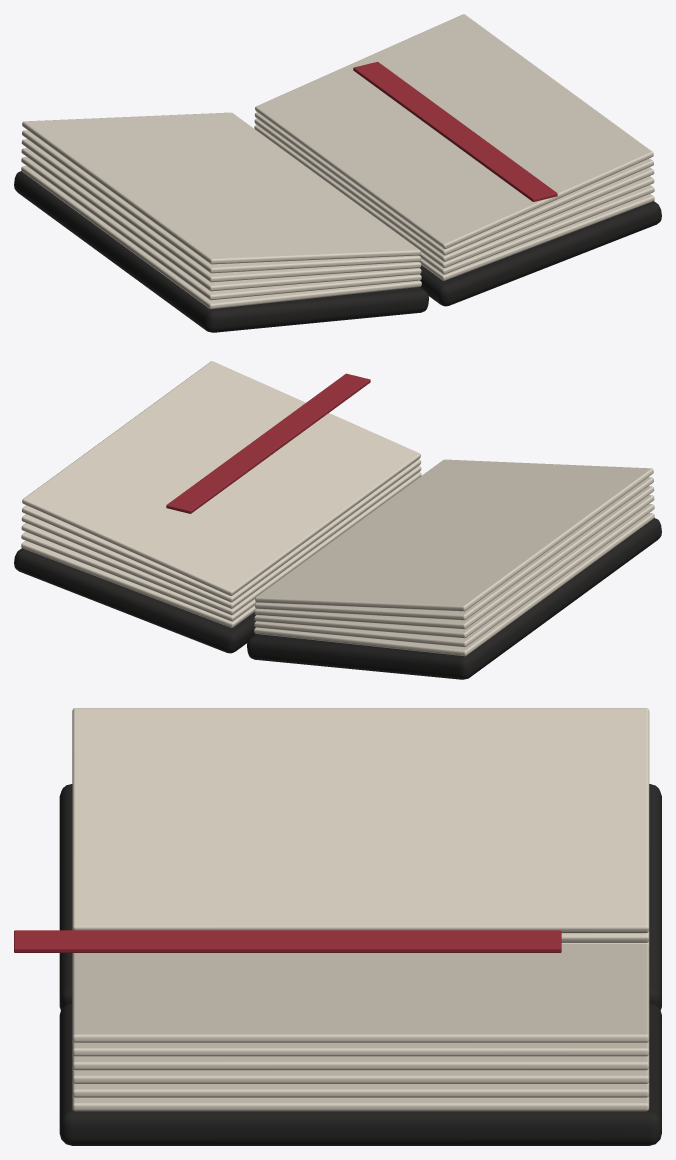
Rendered from VSV-013.glb.
3 renders of one model, top to bottom at view 1: azimuth 30°, elevation 25°; view 2: azimuth 150°, elevation 25°; view 3: azimuth 270°, elevation 25°, orthographic. The views are drawn at different scales.
Visible parts, largest first — view 1: VSV-013_knowledge-folio__page.011, VSV-013_knowledge-folio__page.005, VSV-013_knowledge-folio__cover, VSV-013_knowledge-folio__cover.001, VSV-013_knowledge-folio__bookmark, VSV-013_knowledge-folio__page.001, VSV-013_knowledge-folio__page.002, VSV-013_knowledge-folio__page.003, VSV-013_knowledge-folio__page, VSV-013_knowledge-folio__page.004, VSV-013_knowledge-folio__page.009, VSV-013_knowledge-folio__page.010 (+3 smaller); view 2: VSV-013_knowledge-folio__page.011, VSV-013_knowledge-folio__page.005, VSV-013_knowledge-folio__cover, VSV-013_knowledge-folio__cover.001, VSV-013_knowledge-folio__bookmark, VSV-013_knowledge-folio__page.001, VSV-013_knowledge-folio__page.002, VSV-013_knowledge-folio__page.003, VSV-013_knowledge-folio__page, VSV-013_knowledge-folio__page.004, VSV-013_knowledge-folio__page.009, VSV-013_knowledge-folio__page.010 (+3 smaller); view 3: VSV-013_knowledge-folio__page.005, VSV-013_knowledge-folio__page.011, VSV-013_knowledge-folio__cover.001, VSV-013_knowledge-folio__bookmark, VSV-013_knowledge-folio__page.010, VSV-013_knowledge-folio__page.006, VSV-013_knowledge-folio__page.009, VSV-013_knowledge-folio__page.007, VSV-013_knowledge-folio__page.008, VSV-013_knowledge-folio__cover, VSV-013_knowledge-folio__page.004.
Boxes of the visible parts, <box> form: VSV-013_knowledge-folio__page.011: <box>255,14,653,248</box>; VSV-013_knowledge-folio__page.005: <box>22,112,420,264</box>; VSV-013_knowledge-folio__cover: <box>14,171,428,332</box>; VSV-013_knowledge-folio__cover.001: <box>420,201,661,306</box>; VSV-013_knowledge-folio__bookmark: <box>353,61,557,201</box>; VSV-013_knowledge-folio__page.001: <box>21,157,421,300</box>; VSV-013_knowledge-folio__page.002: <box>21,148,421,291</box>; VSV-013_knowledge-folio__page.003: <box>21,139,421,282</box>; VSV-013_knowledge-folio__page: <box>21,166,421,309</box>; VSV-013_knowledge-folio__page.004: <box>22,130,421,273</box>; VSV-013_knowledge-folio__page.009: <box>254,119,654,261</box>; VSV-013_knowledge-folio__page.010: <box>254,112,653,255</box>; VSV-013_knowledge-folio__page.011: <box>22,361,420,595</box>; VSV-013_knowledge-folio__page.005: <box>255,459,653,611</box>; VSV-013_knowledge-folio__cover: <box>247,518,661,679</box>; VSV-013_knowledge-folio__cover.001: <box>14,548,255,653</box>; VSV-013_knowledge-folio__bookmark: <box>166,373,370,513</box>; VSV-013_knowledge-folio__page.001: <box>254,504,654,647</box>; VSV-013_knowledge-folio__page.002: <box>254,495,654,638</box>; VSV-013_knowledge-folio__page.003: <box>254,486,654,629</box>; VSV-013_knowledge-folio__page: <box>254,513,654,656</box>; VSV-013_knowledge-folio__page.004: <box>254,477,653,620</box>; VSV-013_knowledge-folio__page.009: <box>21,466,421,608</box>; VSV-013_knowledge-folio__page.010: <box>22,459,421,602</box>; VSV-013_knowledge-folio__page.005: <box>72,708,649,933</box>; VSV-013_knowledge-folio__page.011: <box>72,944,649,1042</box>; VSV-013_knowledge-folio__cover.001: <box>59,1003,661,1145</box>; VSV-013_knowledge-folio__bookmark: <box>14,930,561,952</box>; VSV-013_knowledge-folio__page.010: <box>72,1040,649,1056</box>; VSV-013_knowledge-folio__page.006: <box>72,1095,649,1111</box>; VSV-013_knowledge-folio__page.009: <box>72,1054,649,1070</box>; VSV-013_knowledge-folio__page.007: <box>72,1081,649,1097</box>; VSV-013_knowledge-folio__page.008: <box>72,1068,649,1083</box>; VSV-013_knowledge-folio__cover: <box>59,784,661,1009</box>; VSV-013_knowledge-folio__page.004: <box>561,930,649,942</box>.
Size of the model in its own units: 2.19 by 0.4775 by 1.77.
